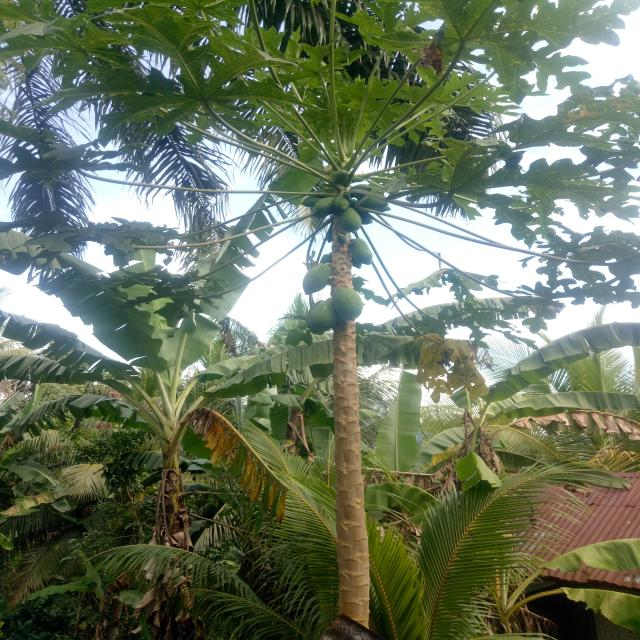Pepaya unrippen: (299, 263, 340, 297), (332, 289, 371, 323), (331, 208, 364, 236), (305, 302, 335, 332), (348, 236, 373, 268)
